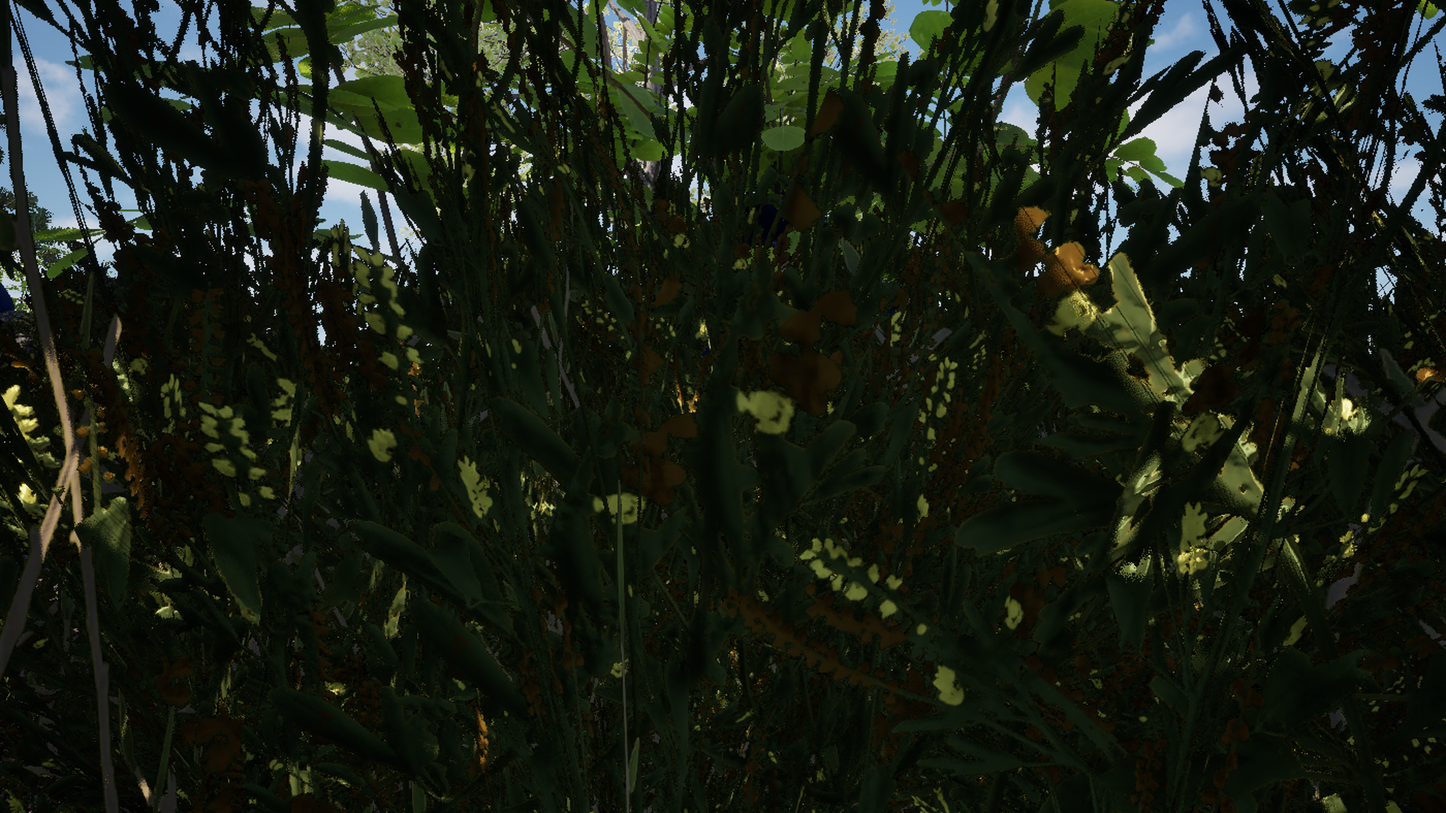Piplup: (464, 0, 1051, 813)
